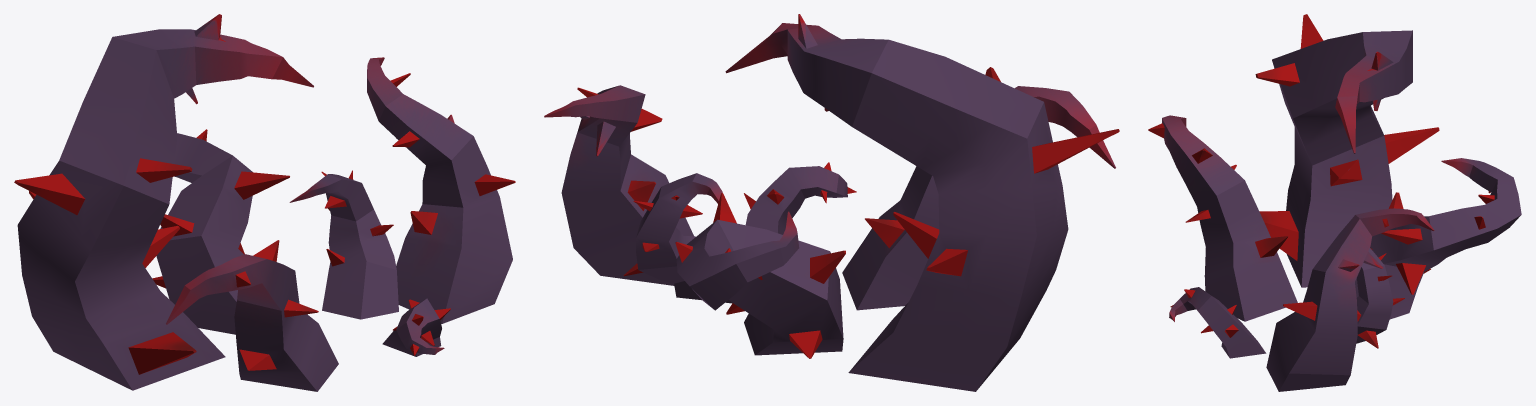
Rendered from 3DObj_thorns.fbx.
3 views of the same model, side by side, from view 1: azimuth 30°, elevation 25°; view 2: azimuth 150°, elevation 25°; view 3: azimuth 270°, elevation 25° (orthographic). The views are drawn at different scales.
Parts seen in each view (by area): view 1: 3DObj_thorns_V2; view 2: 3DObj_thorns_V2; view 3: 3DObj_thorns_V2.
Boxes of the visible parts, x1,y1,x2,y2 form: 3DObj_thorns_V2: [14, 14, 515, 391]; 3DObj_thorns_V2: [544, 14, 1119, 391]; 3DObj_thorns_V2: [1148, 14, 1521, 391].
Bounding box in the file's own units: 202 × 119 × 158.
Materials: 1 (1 with a texture image).
